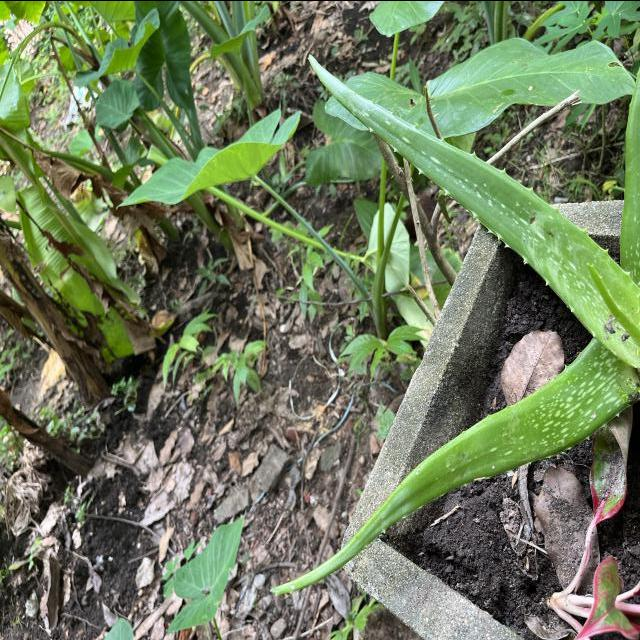Aloe vera: (305, 49, 640, 370), (272, 320, 640, 601)
